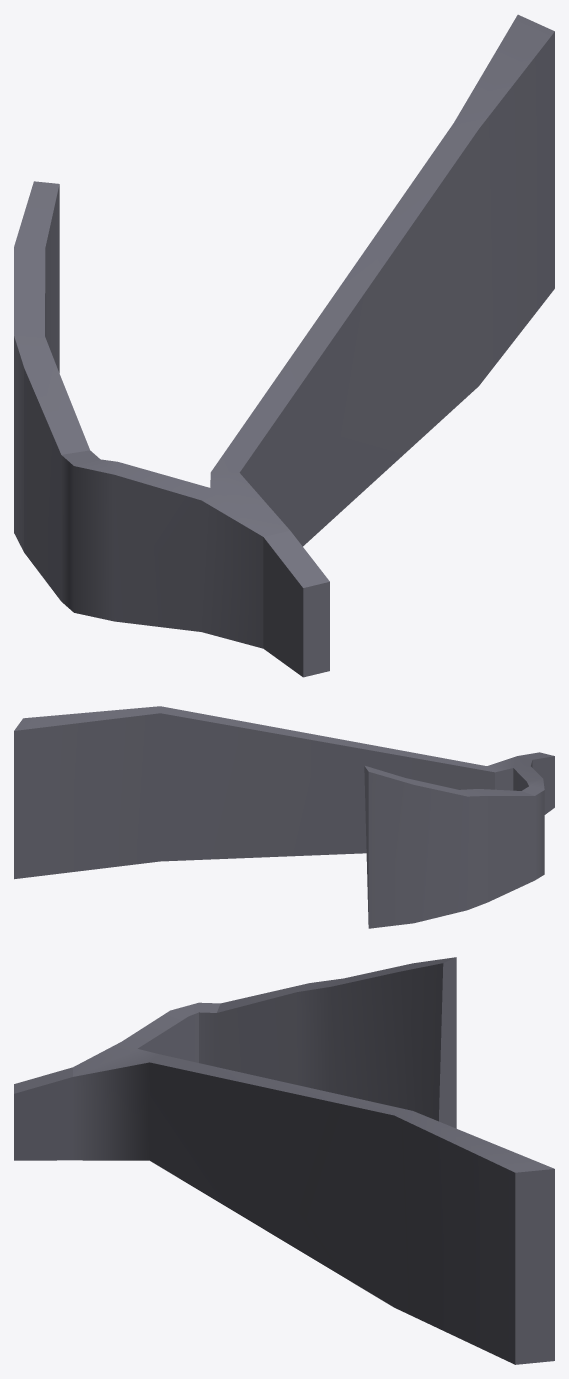
The model's file is road_12.fbx.
The picture shows the model from 3 angles, top to bottom: view 1: azimuth 30°, elevation 25°; view 2: azimuth 150°, elevation 25°; view 3: azimuth 270°, elevation 25°; orthographic projection. The views are drawn at different scales.
Parts seen in each view (by area): view 1: road_12; view 2: road_12; view 3: road_12.
Part boxes in pixels (<box>): road_12: <box>14,14,554,677</box>; road_12: <box>14,706,554,928</box>; road_12: <box>14,957,554,1364</box>.
Size of the model in its own units: 19.89 by 7.48 by 18.01.
1 material, 1 textured.
